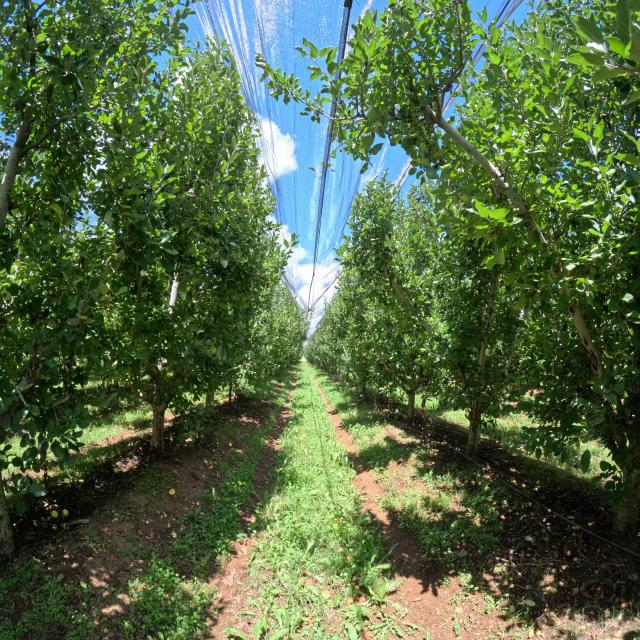-FireBlight-: (24, 357, 45, 382), (36, 442, 48, 469), (261, 281, 270, 289)
